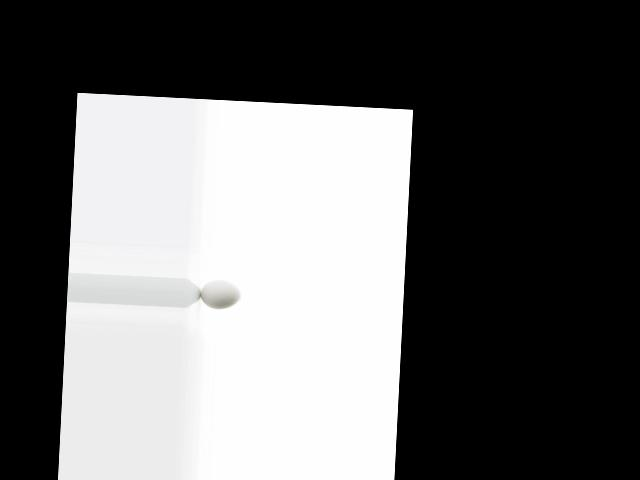egg: (199, 279, 241, 310)
